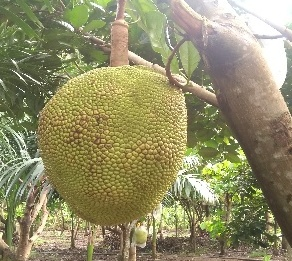Mit: (36, 68, 188, 229)
